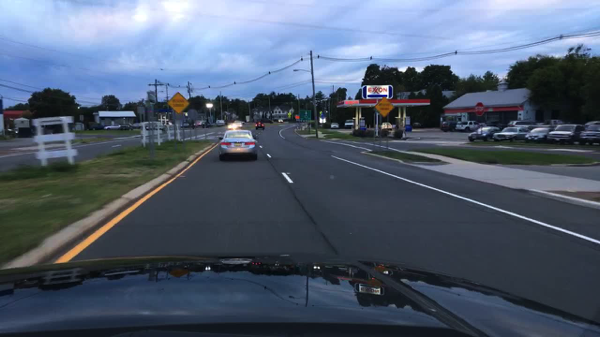car: (219, 130, 258, 162), (545, 124, 584, 146), (491, 127, 531, 143), (524, 127, 555, 144), (468, 127, 500, 142), (578, 125, 599, 146), (455, 121, 478, 133), (507, 120, 539, 128), (30, 127, 52, 136), (440, 121, 455, 133), (580, 121, 599, 130), (377, 123, 393, 133), (251, 118, 274, 124), (227, 122, 242, 131), (542, 120, 563, 126), (344, 120, 356, 130), (5, 129, 20, 137), (119, 123, 133, 131), (88, 125, 104, 132), (191, 121, 202, 130), (198, 121, 210, 129), (179, 121, 192, 128), (132, 122, 143, 130), (330, 122, 341, 130), (103, 125, 120, 130), (153, 124, 165, 131), (139, 124, 153, 130), (254, 122, 264, 130), (215, 119, 225, 127), (234, 120, 246, 125), (479, 122, 489, 127), (318, 122, 325, 127), (277, 119, 285, 122)
traffic sign: (167, 92, 190, 115), (375, 97, 393, 118), (299, 110, 311, 122), (474, 103, 484, 117), (318, 111, 324, 118), (289, 108, 295, 115), (245, 116, 250, 122), (287, 112, 292, 118)
